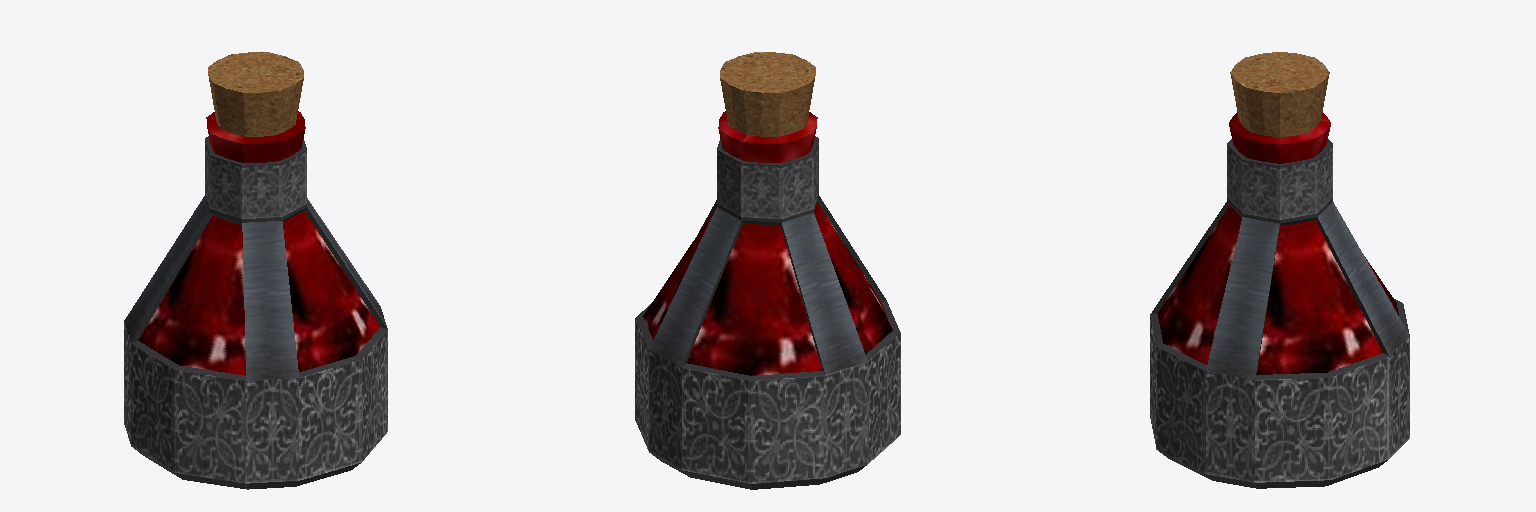
3 views of the same model, side by side, from view 1: azimuth 30°, elevation 25°; view 2: azimuth 150°, elevation 25°; view 3: azimuth 270°, elevation 25° (orthographic).
Visible parts, largest first — view 1: skin; view 2: skin; view 3: skin.
Boxes of the visible parts, x1=… form: skin: x1=124, y1=52, x2=387, y2=489; skin: x1=635, y1=52, x2=900, y2=489; skin: x1=1150, y1=52, x2=1409, y2=488.
Bounding box in the file's own units: 2.47 × 3.85 × 2.47.
Materials: 1 (1 with a texture image).